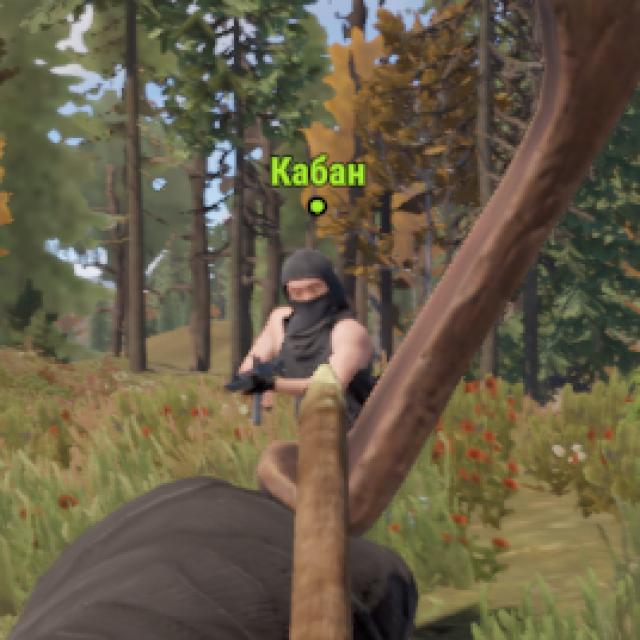Player: (232, 249, 372, 362)
